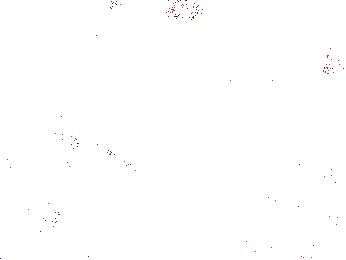X-ray fish: (151, 1, 208, 20)
glassfish: (51, 125, 156, 191)
red belly glassfish: (326, 49, 341, 68)
redtail glassfish: (106, 1, 126, 17)
